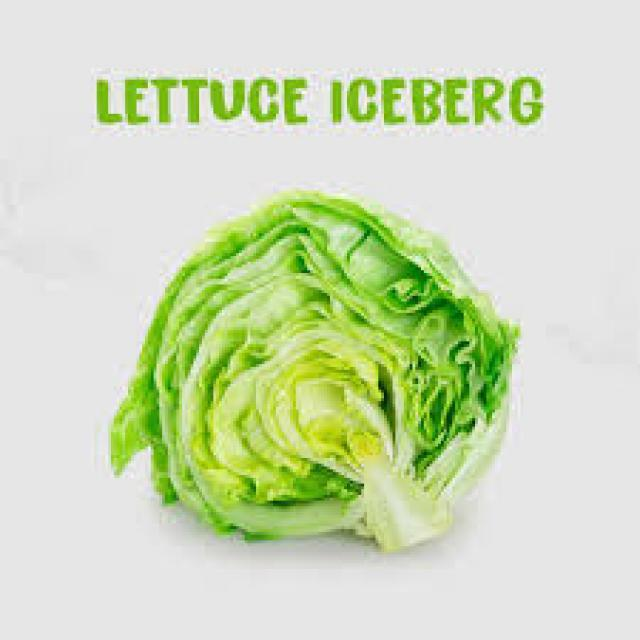Lettuce: (105, 188, 520, 551)
